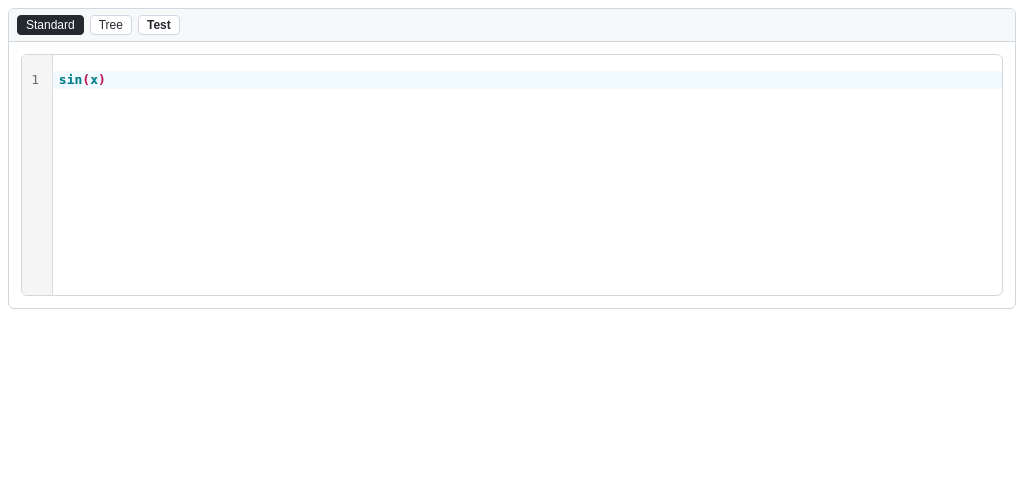
Test case: FuncScriptTester tree workflow › hides testing controls by default and toggles visibility
Expected: the text "Variables will appear here when referenced." is not shown
Click the button "Test".
click(159, 25)  # box x1=138 y1=15 x2=180 y2=35
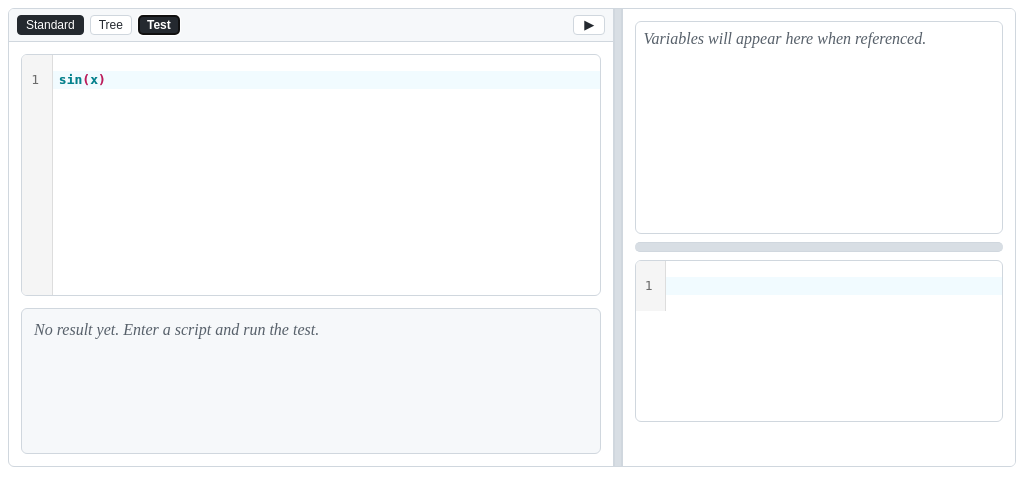
Now the text "Variables will appear here when referenced." is shown, box x1=644 y1=30 x2=926 y2=47
Click the button "Test".
click(159, 25)  # box x1=138 y1=15 x2=180 y2=35
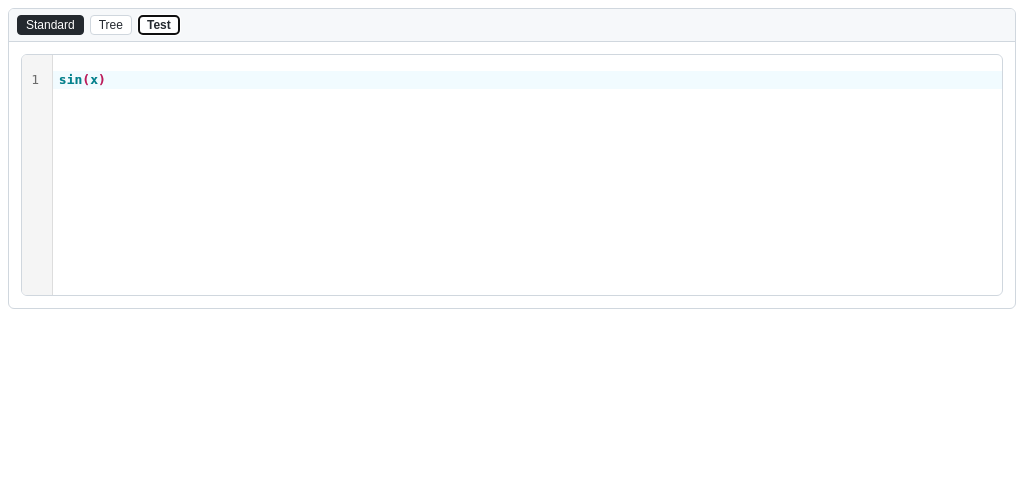
Now the text "Variables will appear here when referenced." is gone
